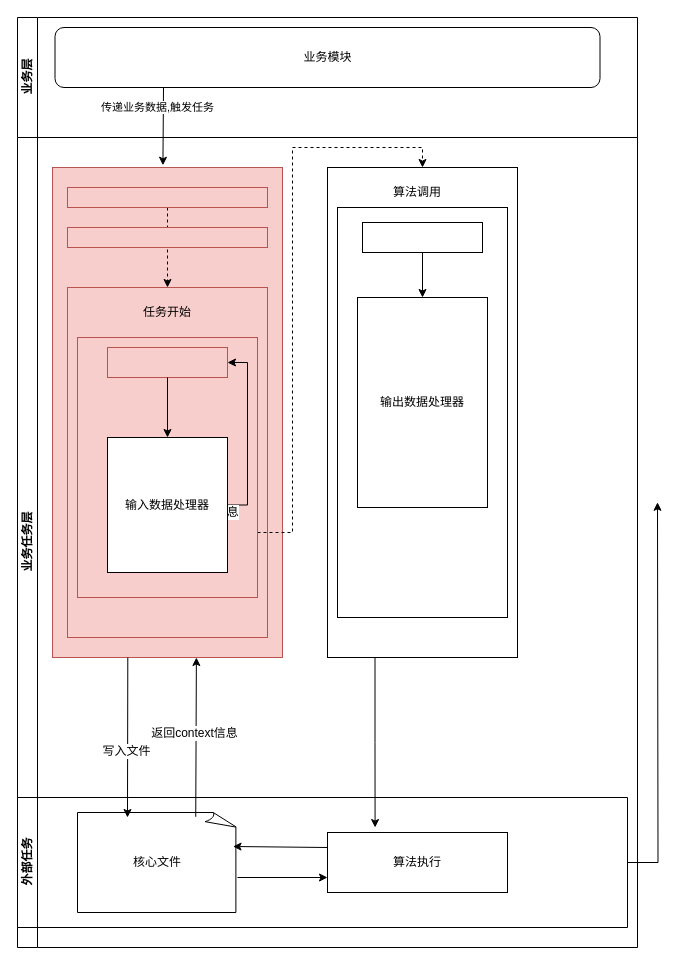
Some shapes in this 684 by 965 pixel diagram are drawn without their labels. Each missing label, with the centre of its shape:
创建任务: point (167, 237)
按照task算法运行优先级依次运行算法: point (422, 237)
查询算法业务表，获取算法执行队列: point (167, 197)
获取下一个待获取输入数据的任务: point (167, 362)
